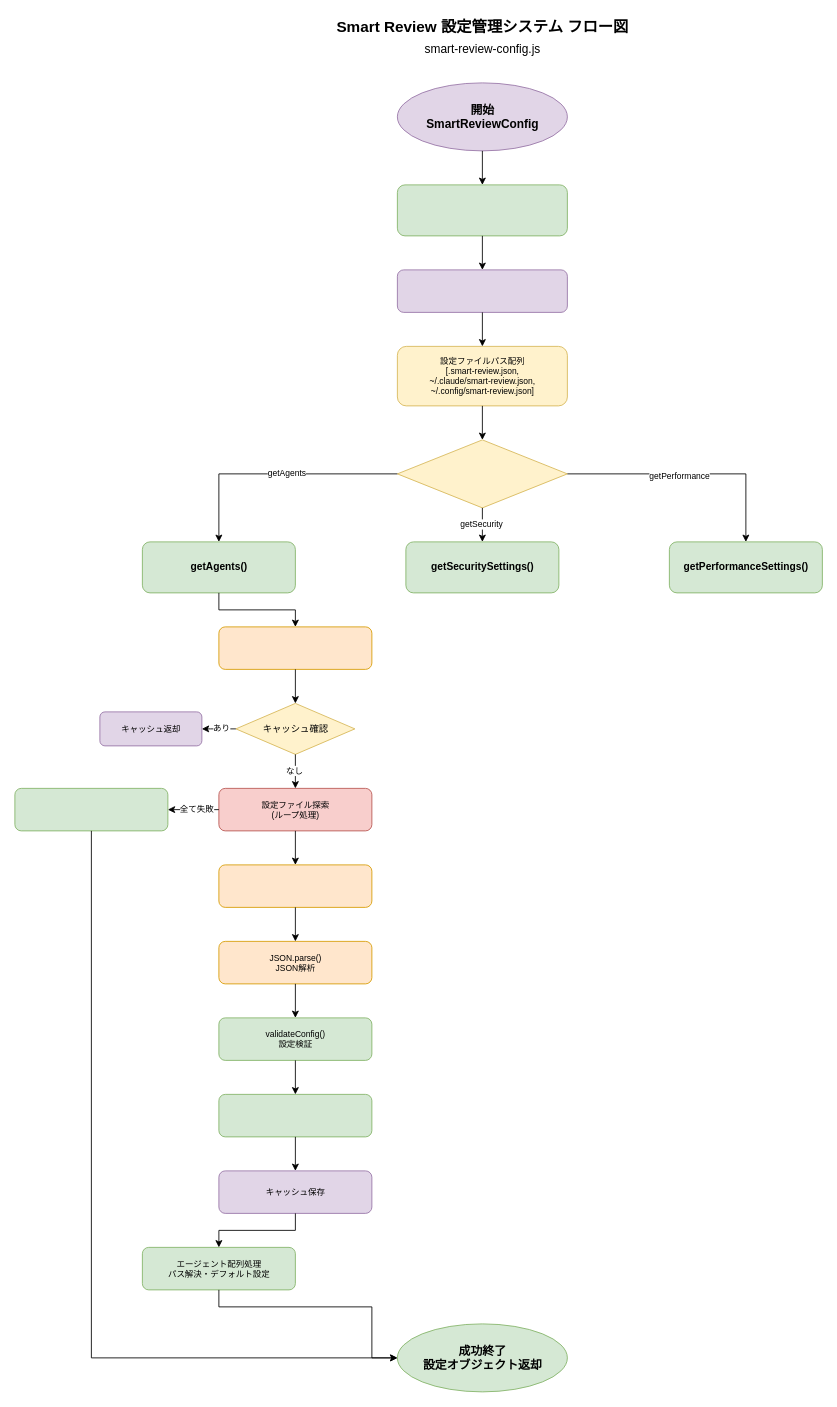
The diagram is 837 pixels wide and 1407 high, and some of its shapes have lost their labels. Each missing label, with the centre of its shape:
"configCache = null キャッシュ初期化" goes at point 482,290.
"getDefaultConfig() デフォルト設定返却" goes at point 91,809.
"loadConfig() 設定読み込み" goes at point 295,647.
"mergeWithEnv() 環境変数マージ" goes at point 295,1115.
"SmartReviewConfig コンストラクタ実行" goes at point 482,210.
"ファイル読み込み fs.readFile()" goes at point 295,885.
"メソッド呼び出し" goes at point 482,473.
